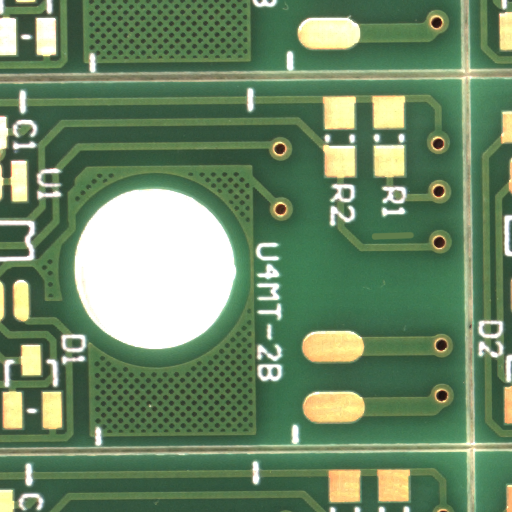Spurious_copper: (391, 235, 436, 245)
